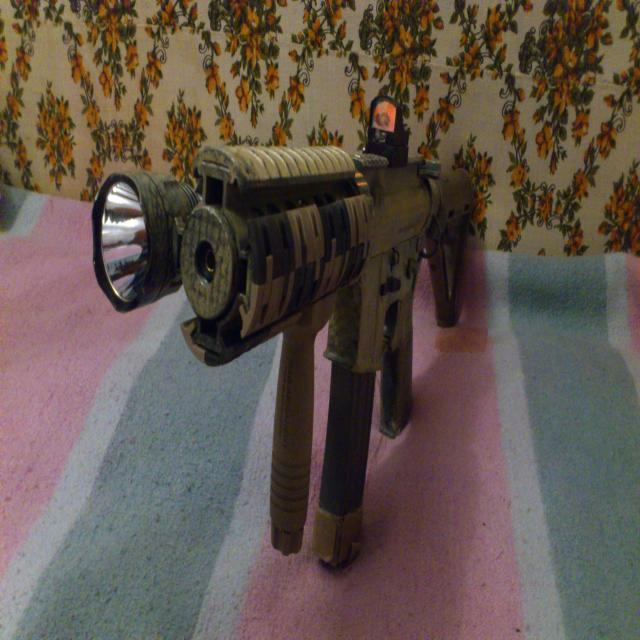firearm: (90, 95, 466, 573)
